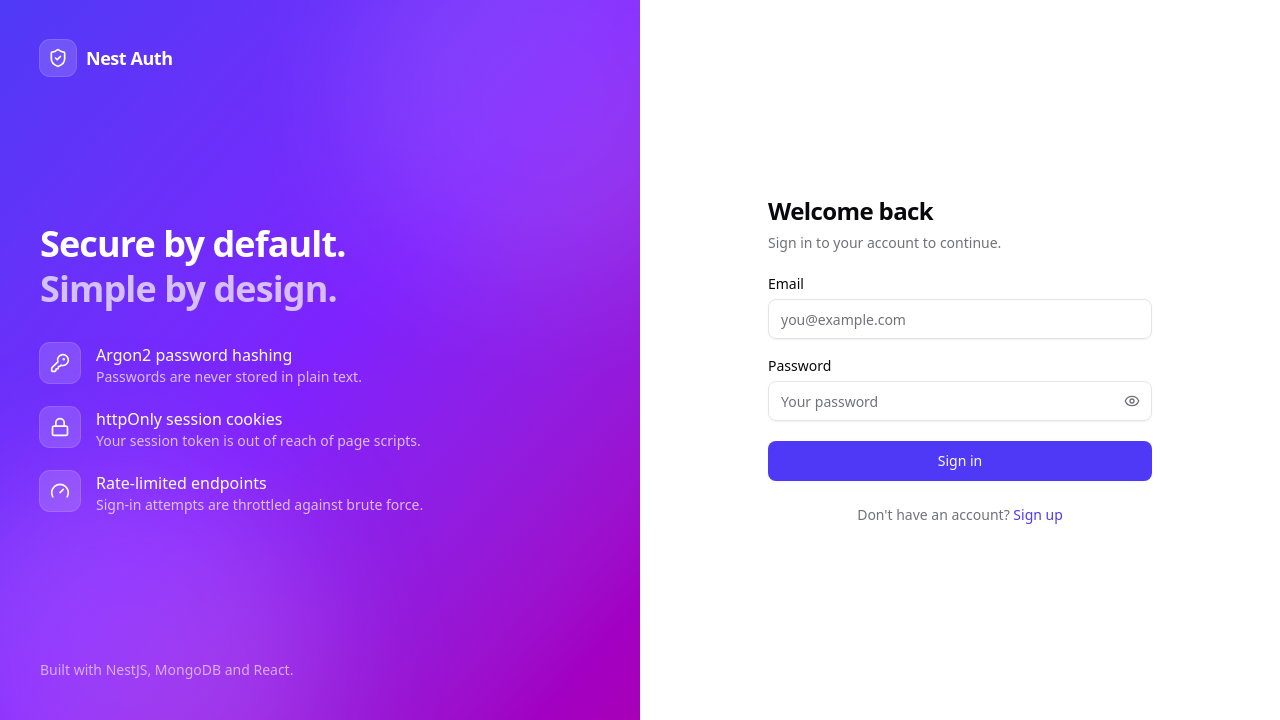
Test: SignInPage › shows the server error for bad credentials
Step 1. Type "jane@example.com" into the field labelled "Email" → [960, 319], box [768,299,1152,339]
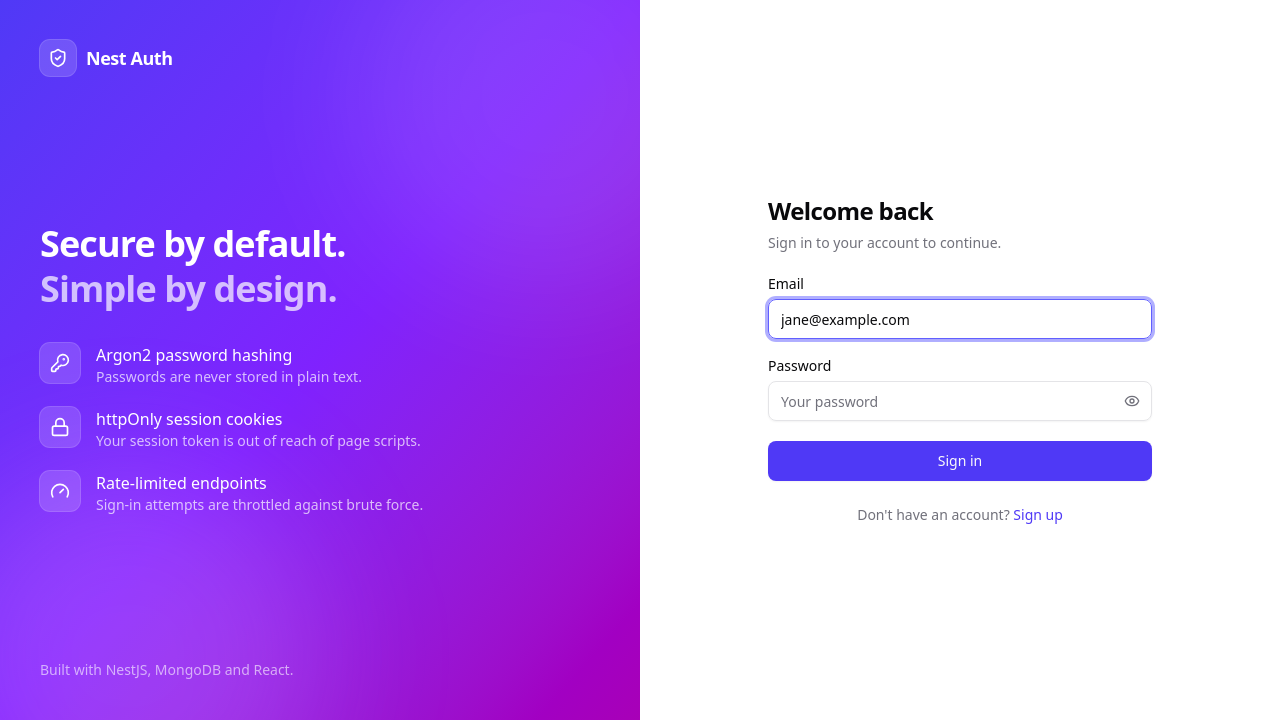
Step 2. Type "wrong" into the password field labelled "Password" → [960, 401], box [768,381,1152,421]
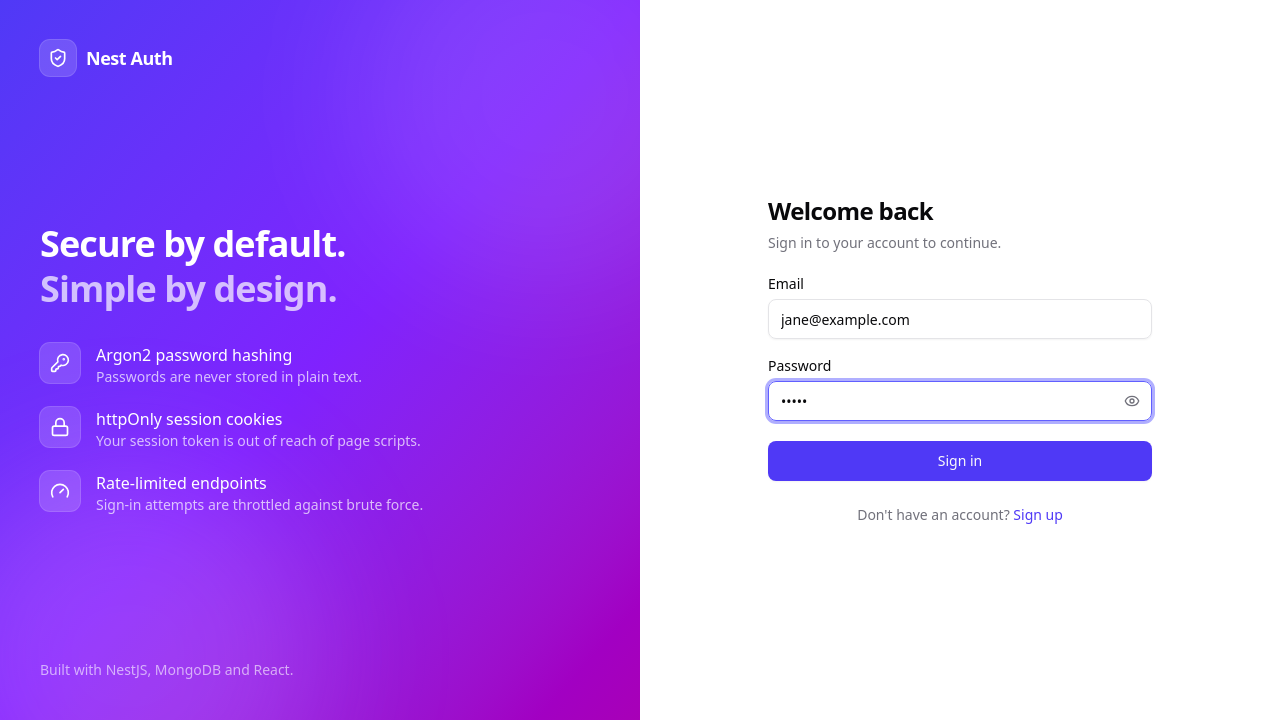
Step 3. Click the button "Sign in" → [960, 461], box [768,441,1152,481]
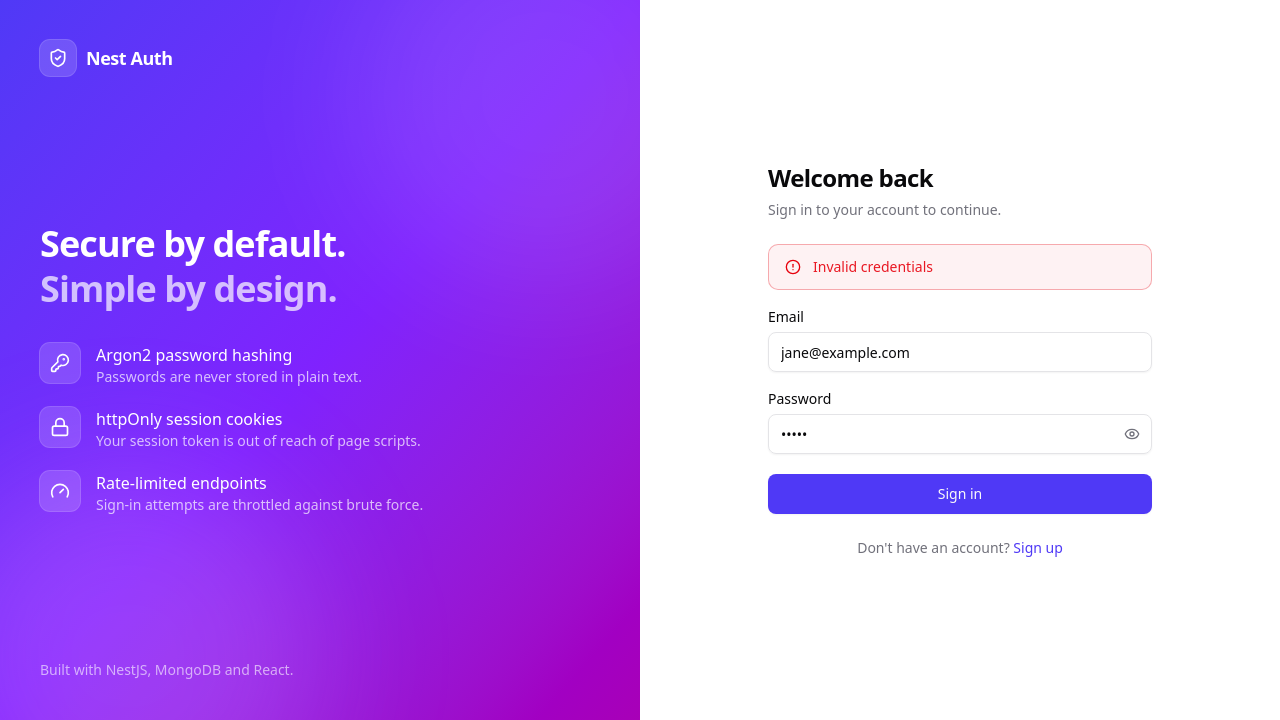
Check: the message reads "Invalid credentials", box [813,257,933,276]
